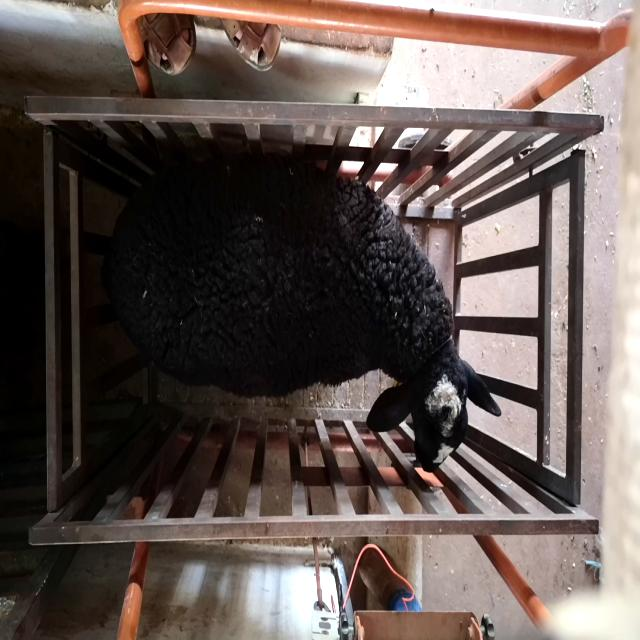sheep: (102, 153, 502, 474)
